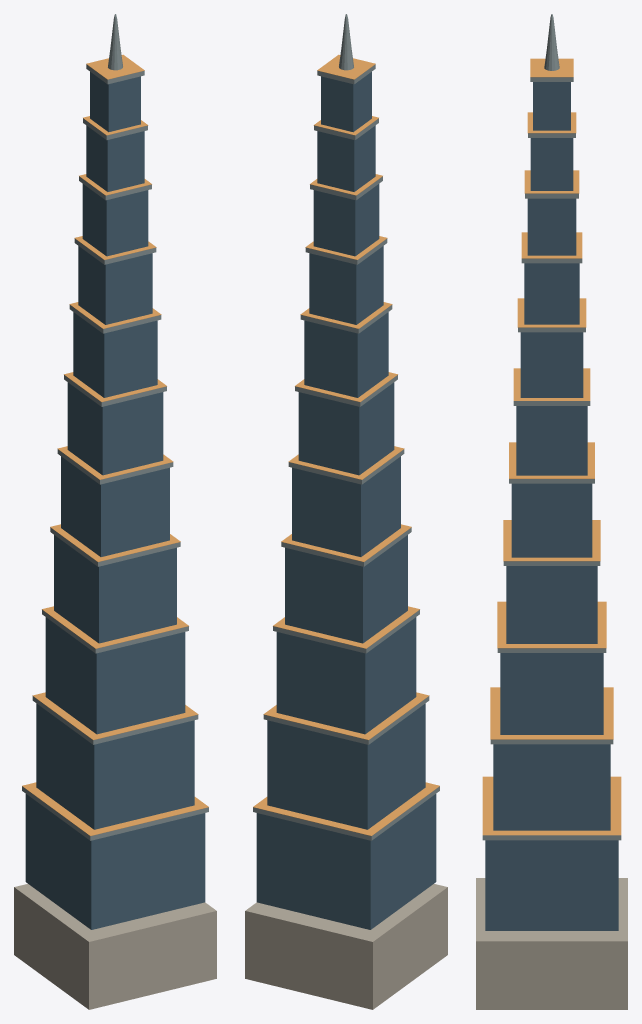
File: jinmao_far.glb
The picture shows the model from 3 angles, left to right: view 1: azimuth 30°, elevation 25°; view 2: azimuth 150°, elevation 25°; view 3: azimuth 270°, elevation 25°; orthographic projection.
Visible parts, largest first — view 1: Glazing, Limestone, NightWarm, Silver; view 2: Glazing, Limestone, NightWarm, Silver; view 3: Glazing, Limestone, NightWarm, Silver.
Part boxes in pixels (left/top/right/bottom): Glazing: left=25, top=72, right=205, bottom=929; Limestone: left=14, top=884, right=216, bottom=1009; NightWarm: left=22, top=54, right=208, bottom=835; Silver: left=22, top=14, right=208, bottom=840; Glazing: left=256, top=72, right=436, bottom=929; Limestone: left=245, top=884, right=447, bottom=1009; NightWarm: left=253, top=54, right=439, bottom=835; Silver: left=253, top=14, right=439, bottom=840; Glazing: left=485, top=82, right=618, bottom=930; Limestone: left=476, top=878, right=627, bottom=1009; NightWarm: left=482, top=58, right=621, bottom=835; Silver: left=482, top=14, right=621, bottom=840.
Bounding box in the file's own units: 59 × 420 × 60.
